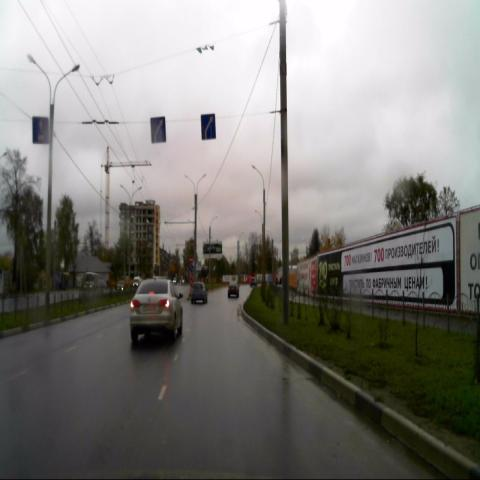5_14: (32, 116, 49, 144)
